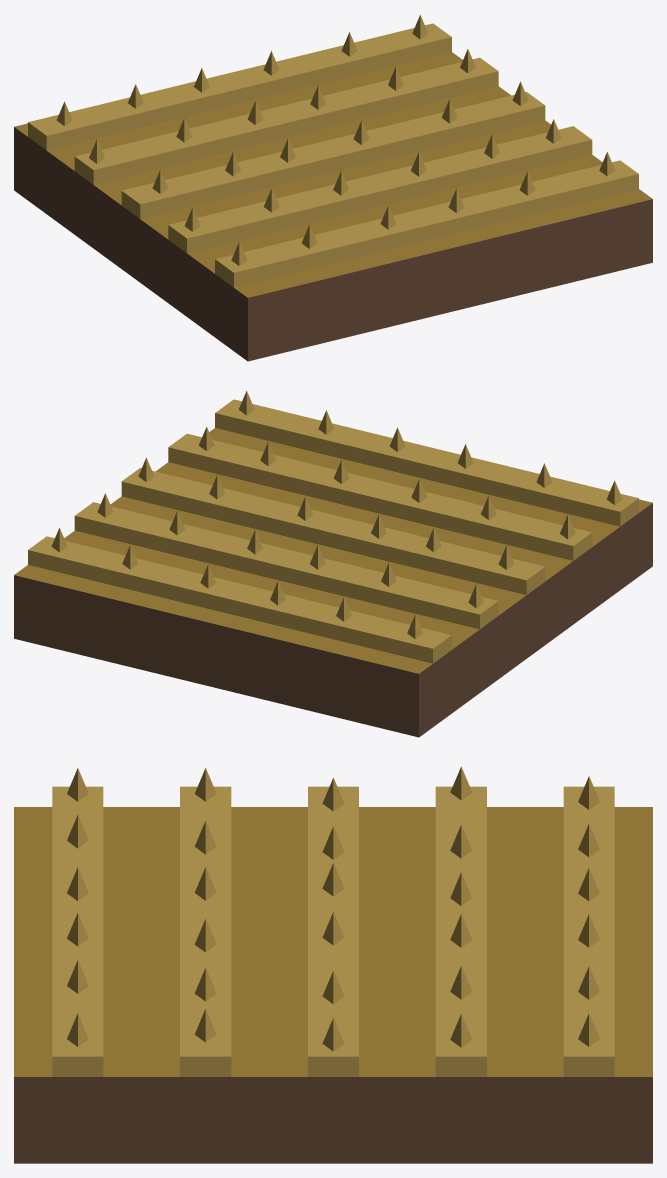
The model's file is t_stubble.glb.
3 views of the same model, one above another, from view 1: azimuth 30°, elevation 25°; view 2: azimuth 150°, elevation 25°; view 3: azimuth 270°, elevation 25° (orthographic). The views are drawn at different scales.
Parts seen in each view (by area): view 1: t_stubble; view 2: t_stubble; view 3: t_stubble.
Part boxes in pixels (left/top/right/bottom): t_stubble: left=14, top=15, right=652, bottom=361; t_stubble: left=14, top=391, right=652, bottom=737; t_stubble: left=14, top=766, right=652, bottom=1163.
Size of the model in its own units: 2 by 0.47 by 2.
